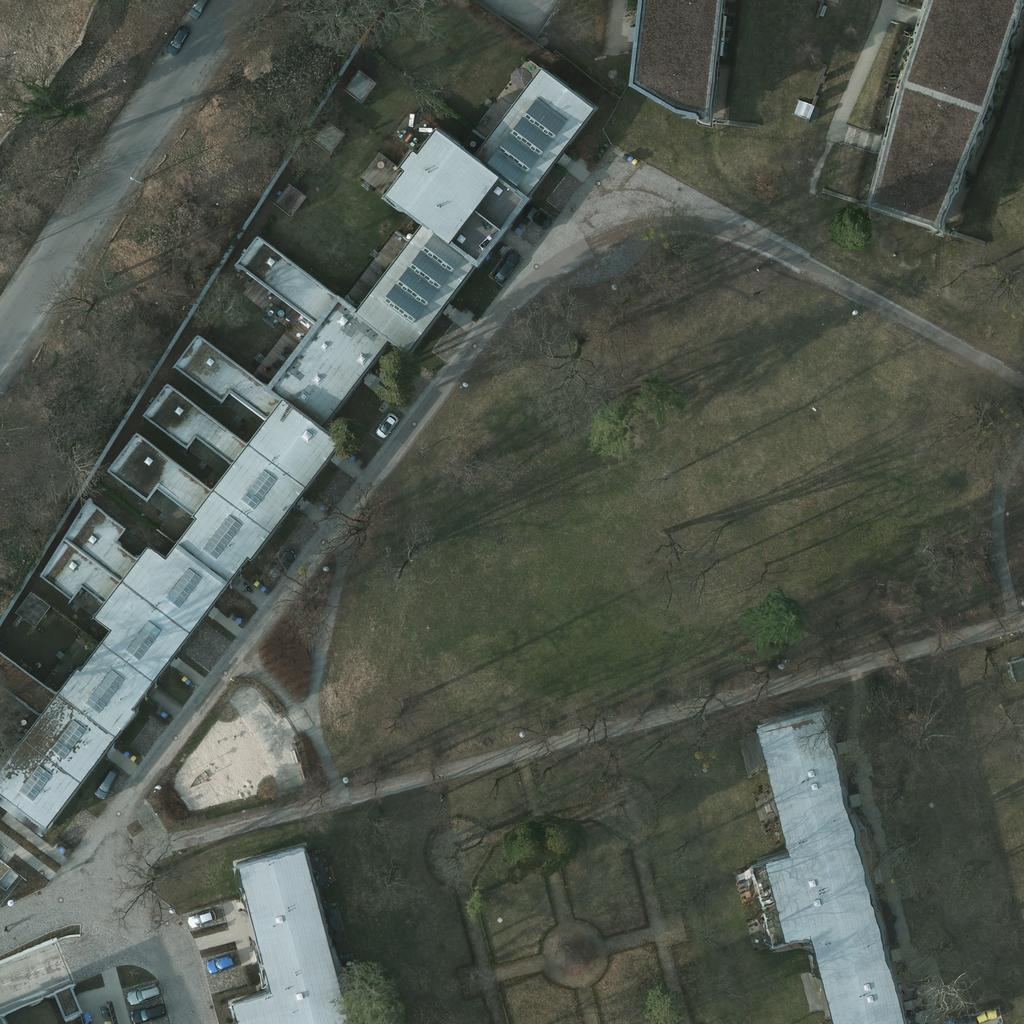car: (159, 21, 193, 55), (520, 199, 554, 233), (487, 250, 521, 284), (367, 408, 401, 442), (265, 547, 299, 581), (88, 763, 122, 797), (184, 900, 218, 934), (204, 944, 238, 978), (127, 975, 161, 1009), (132, 995, 166, 1024), (183, 0, 217, 17)
